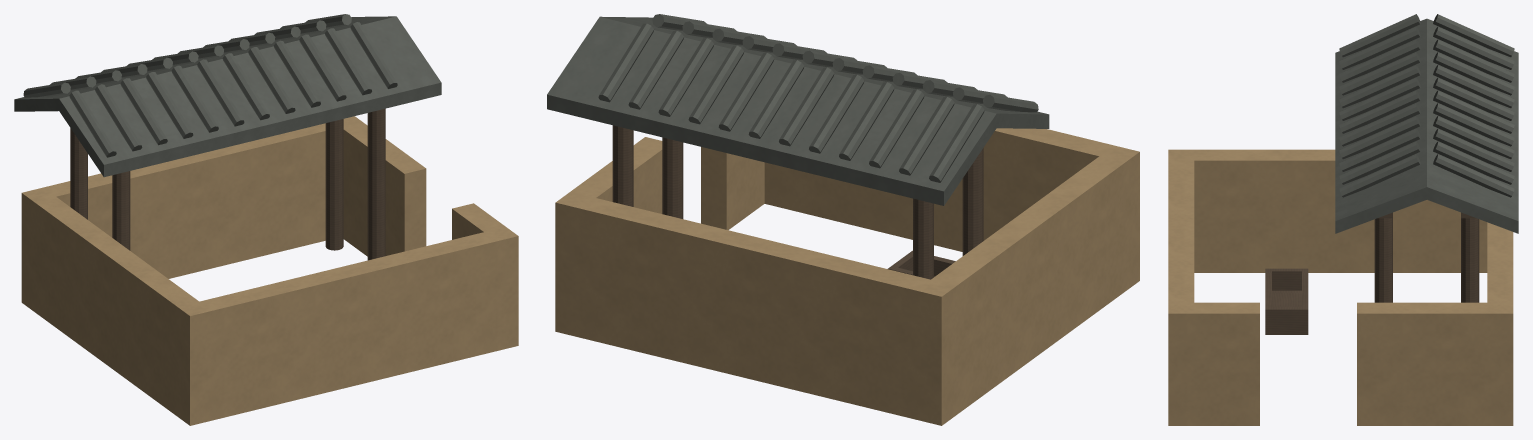
File: service-enclosure-LOD0.glb
3 renders of one model, left to right at view 1: azimuth 30°, elevation 25°; view 2: azimuth 150°, elevation 25°; view 3: azimuth 270°, elevation 25°, orthographic. The views are drawn at different scales.
Parts seen in each view (by area): view 1: service-enclosure_earth, service-enclosure_tile, service-enclosure_timber; view 2: service-enclosure_earth, service-enclosure_tile, service-enclosure_timber; view 3: service-enclosure_earth, service-enclosure_tile, service-enclosure_timber.
Boxes of the visible parts, x1=… form: service-enclosure_earth: x1=21, y1=116, x2=518, y2=425; service-enclosure_tile: x1=14, y1=14, x2=441, y2=177; service-enclosure_timber: x1=70, y1=108, x2=385, y2=260; service-enclosure_earth: x1=555, y1=128, x2=1139, y2=425; service-enclosure_tile: x1=547, y1=14, x2=1049, y2=205; service-enclosure_timber: x1=612, y1=125, x2=983, y2=279; service-enclosure_earth: x1=1168, y1=149, x2=1513, y2=425; service-enclosure_tile: x1=1335, y1=14, x2=1518, y2=233; service-enclosure_timber: x1=1265, y1=212, x2=1479, y2=334.
Size of the model in its own units: 3.7 by 2.57 by 3.25.
Materials: 3 (3 with a texture image).
